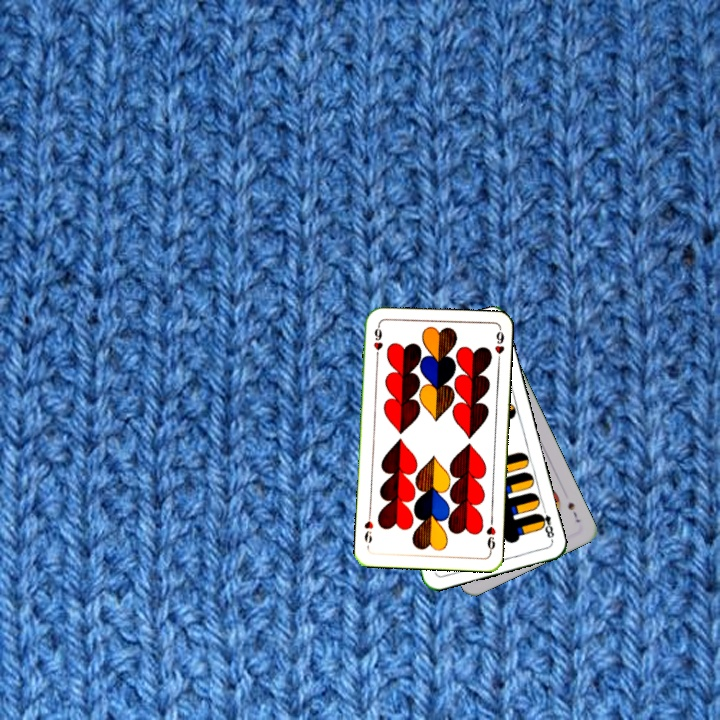E8: (534, 503, 557, 543)
H9: (370, 321, 385, 362), (483, 515, 498, 555)
S7: (564, 498, 583, 525)
